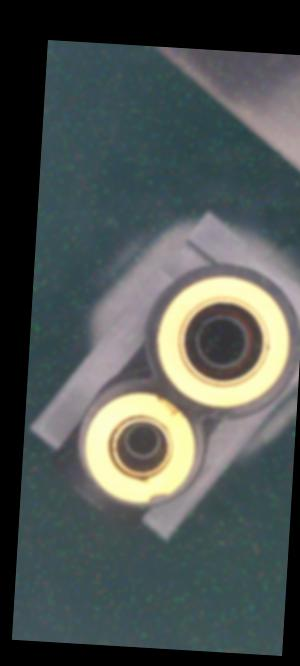bump: (145, 391, 188, 419), (146, 488, 169, 505)
